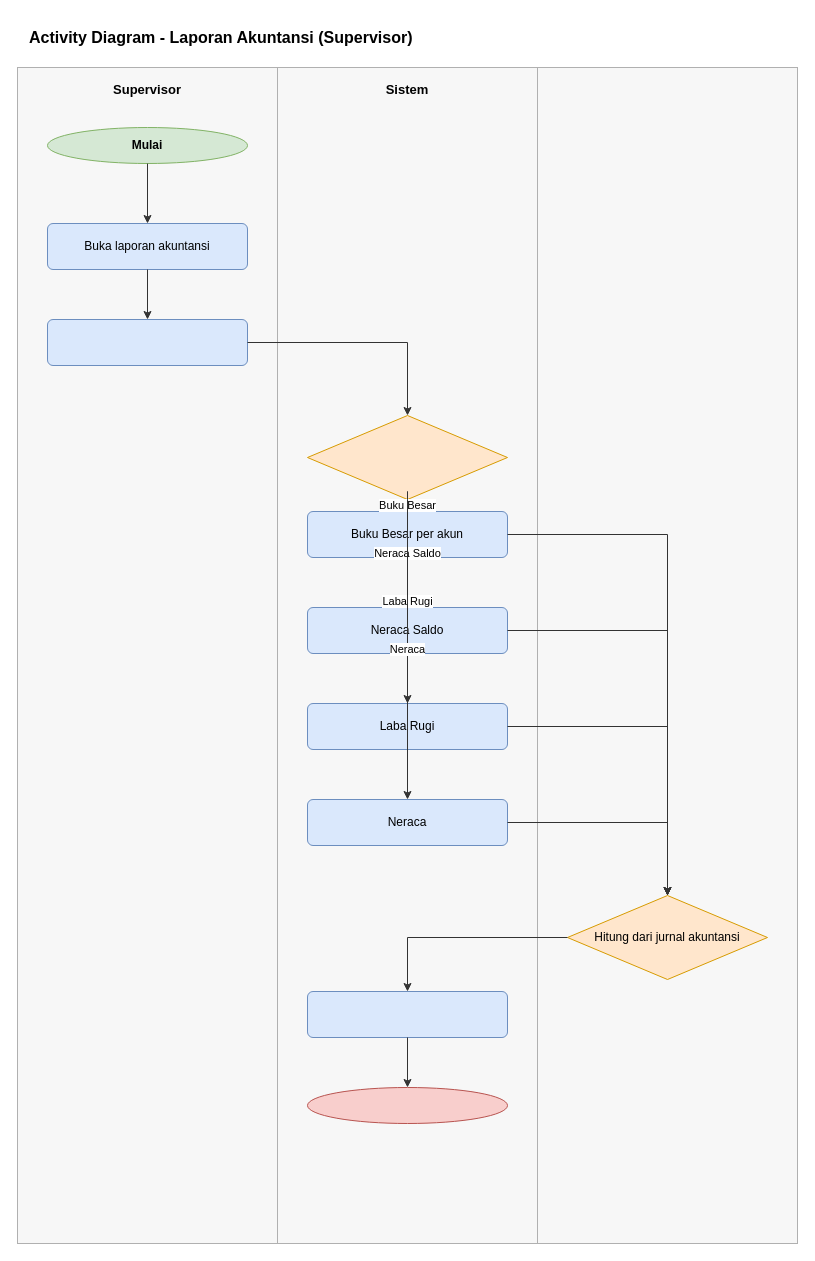
Some shapes in this 815 by 1261 pixel diagram are drawn without their labels. The box of each missing label's shape, as (x1, y1, x2, y2) in pixels:
Database: (536, 66, 798, 1244)
Jenis?: (306, 414, 508, 500)
Pilih jenis laporan: (46, 318, 248, 366)
Selesai: (306, 1086, 508, 1124)
Tampilkan laporan: (306, 990, 508, 1038)
